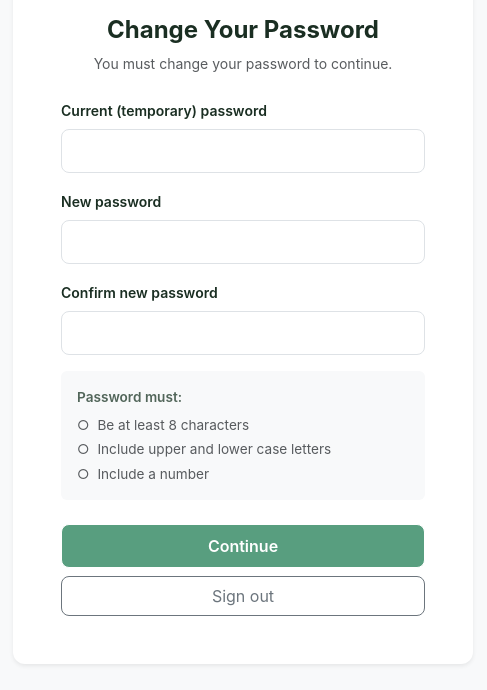
ChangePassword Component (UI-02) › submits change password request and displays error on API failure
The width and height of the screenshot is (487, 690).
In the password field labelled "Current (temporary) password": x=243, y=151 [61,129,425,173], type "WrongCurrent123!"
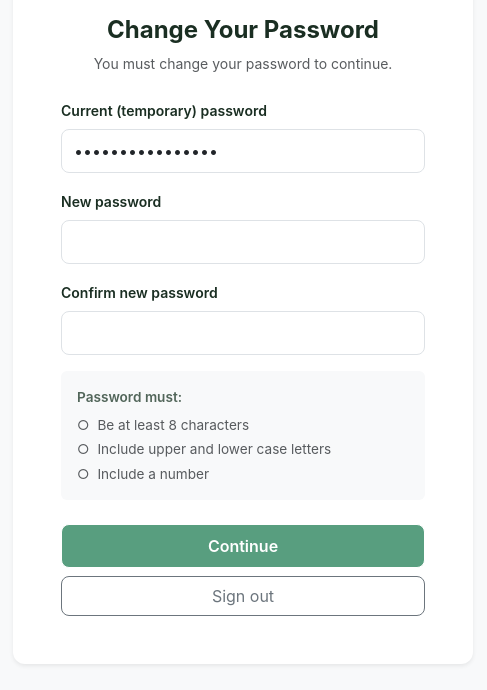
In the password field labelled "New password": x=243, y=242 [61,220,425,264], type "NewValidPassword456!"
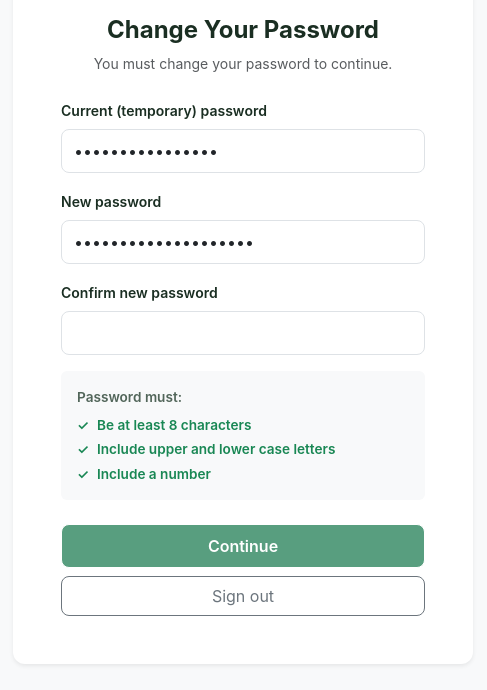
In the password field labelled "Confirm new password": x=243, y=333 [61,311,425,355], type "NewValidPassword456!"
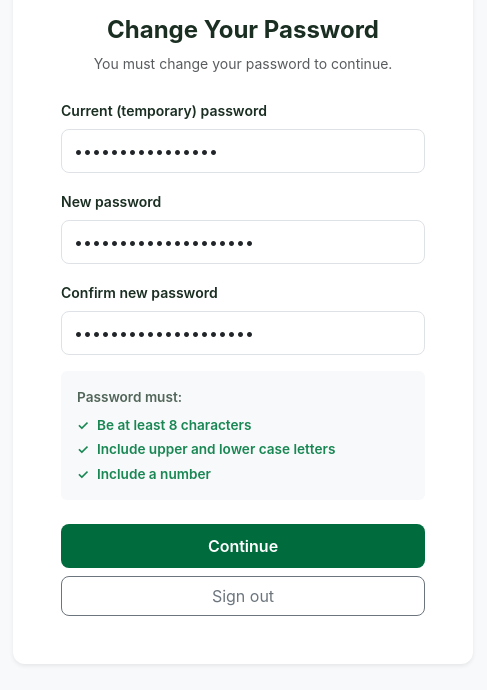
Click the button "Continue": x=243, y=546 [61,524,425,568]
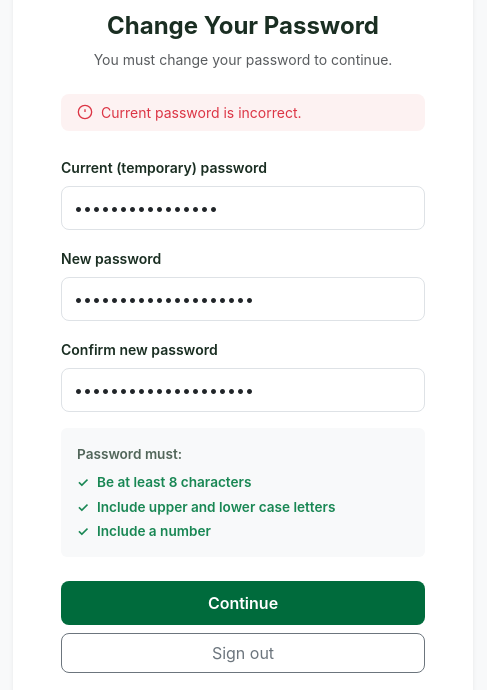
Check: the message shows "Current password is incorrect", box [101,104,302,121]
